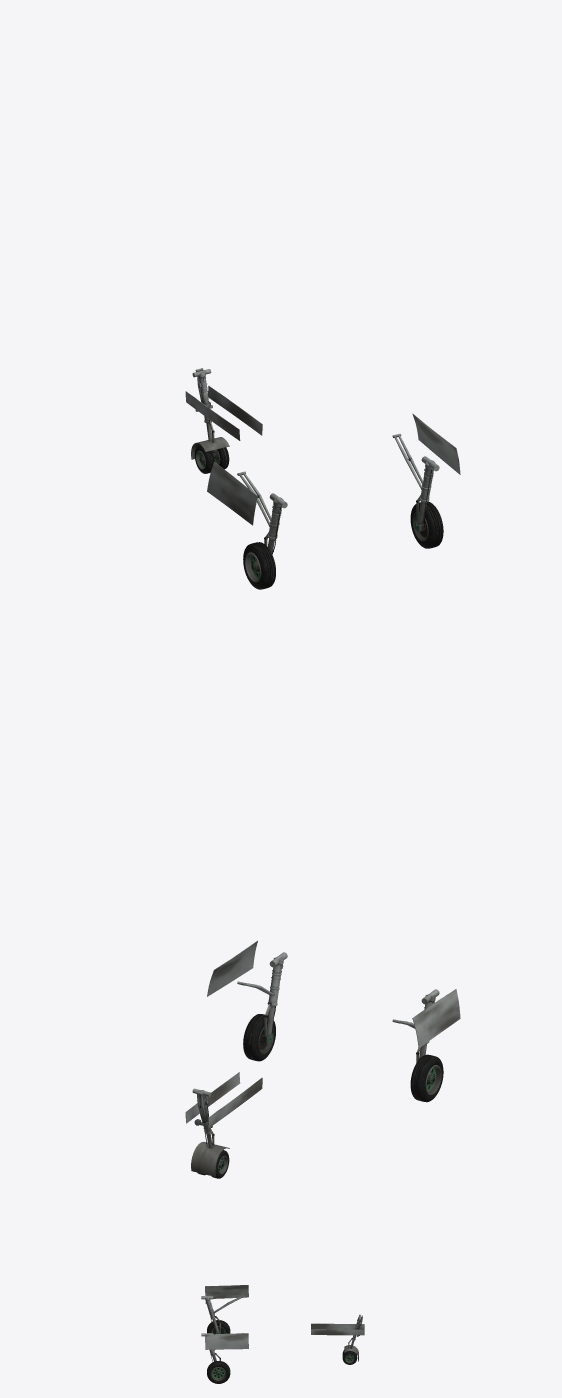
File: su30_gear.glb
The picture shows the model from 3 angles, top to bottom: view 1: azimuth 30°, elevation 25°; view 2: azimuth 150°, elevation 25°; view 3: azimuth 270°, elevation 25°; orthographic projection. The views are drawn at different scales.
Visible parts, largest first — view 1: gear_m_l, gear_m_r, door_m_l, gear_n, door_m_r, door_n_r; view 2: gear_m_r, gear_m_l, gear_n, door_m_l, door_m_r; view 3: door_m_r, gear_m_r, door_m_l, gear_m_l, gear_n, door_n_r, door_n_l.
Part boxes in pixels (x1,y1,x2,y2): gear_m_l: (243,493,287,589); gear_m_r: (410,456,443,548); door_m_l: (207,462,257,525); gear_n: (191,369,229,473); door_m_r: (412,413,460,474); door_n_r: (208,385,262,435); gear_m_r: (243,952,287,1061); gear_m_l: (410,989,443,1102); gear_n: (191,1088,229,1178); door_m_l: (412,989,460,1048); door_m_r: (207,940,257,996); door_m_r: (205,1333,248,1349); gear_m_r: (201,1333,230,1383); door_m_l: (205,1285,248,1298); gear_m_l: (201,1296,230,1334); gear_n: (342,1314,361,1364); door_n_r: (311,1329,364,1335); door_n_l: (311,1323,364,1329).
Size of the model in its own units: 5.19 by 7.29 by 22.65.
2 materials, 1 textured.
